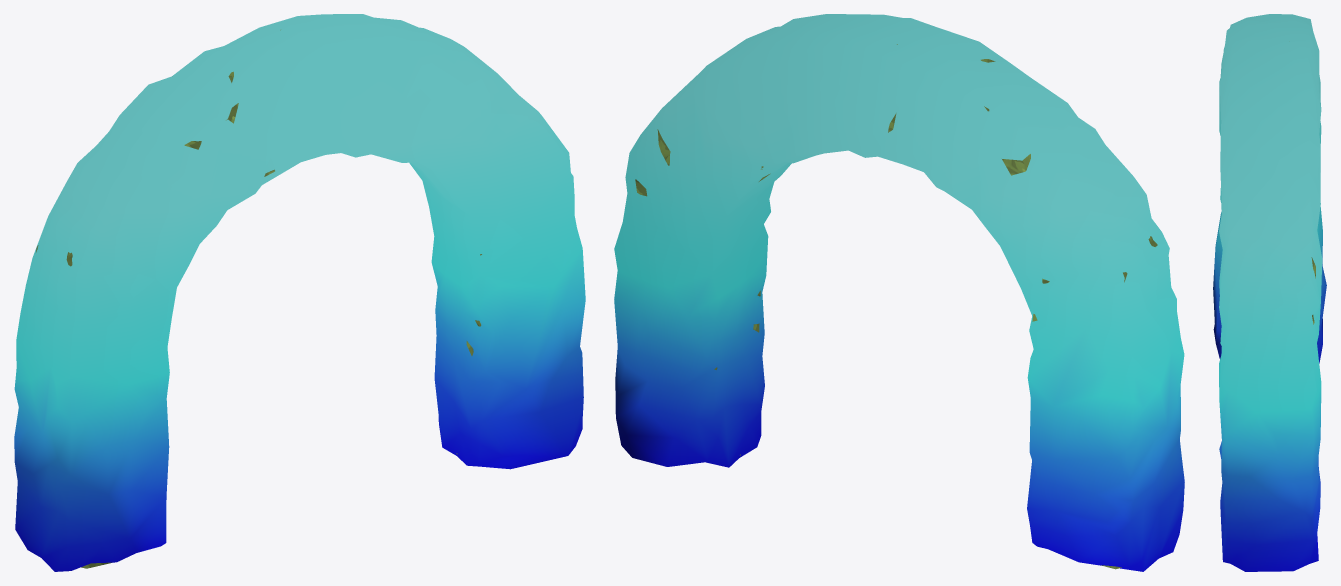
Rendered from SM_Env_Hedge_05.fbx.
3 renders of one model, left to right at view 1: azimuth 30°, elevation 25°; view 2: azimuth 150°, elevation 25°; view 3: azimuth 270°, elevation 25°, orthographic. The views are drawn at different scales.
Visible parts, largest first — view 1: SM_Env_Hedge_05_LOD0; view 2: SM_Env_Hedge_05_LOD0; view 3: SM_Env_Hedge_05_LOD0.
Part boxes in pixels (x1,y1,x2,y2): SM_Env_Hedge_05_LOD0: (14,14,585,571); SM_Env_Hedge_05_LOD0: (614,14,1184,571); SM_Env_Hedge_05_LOD0: (1213,14,1326,571).
Size of what is drawn, in the model's own units: 533 by 453 by 111.
